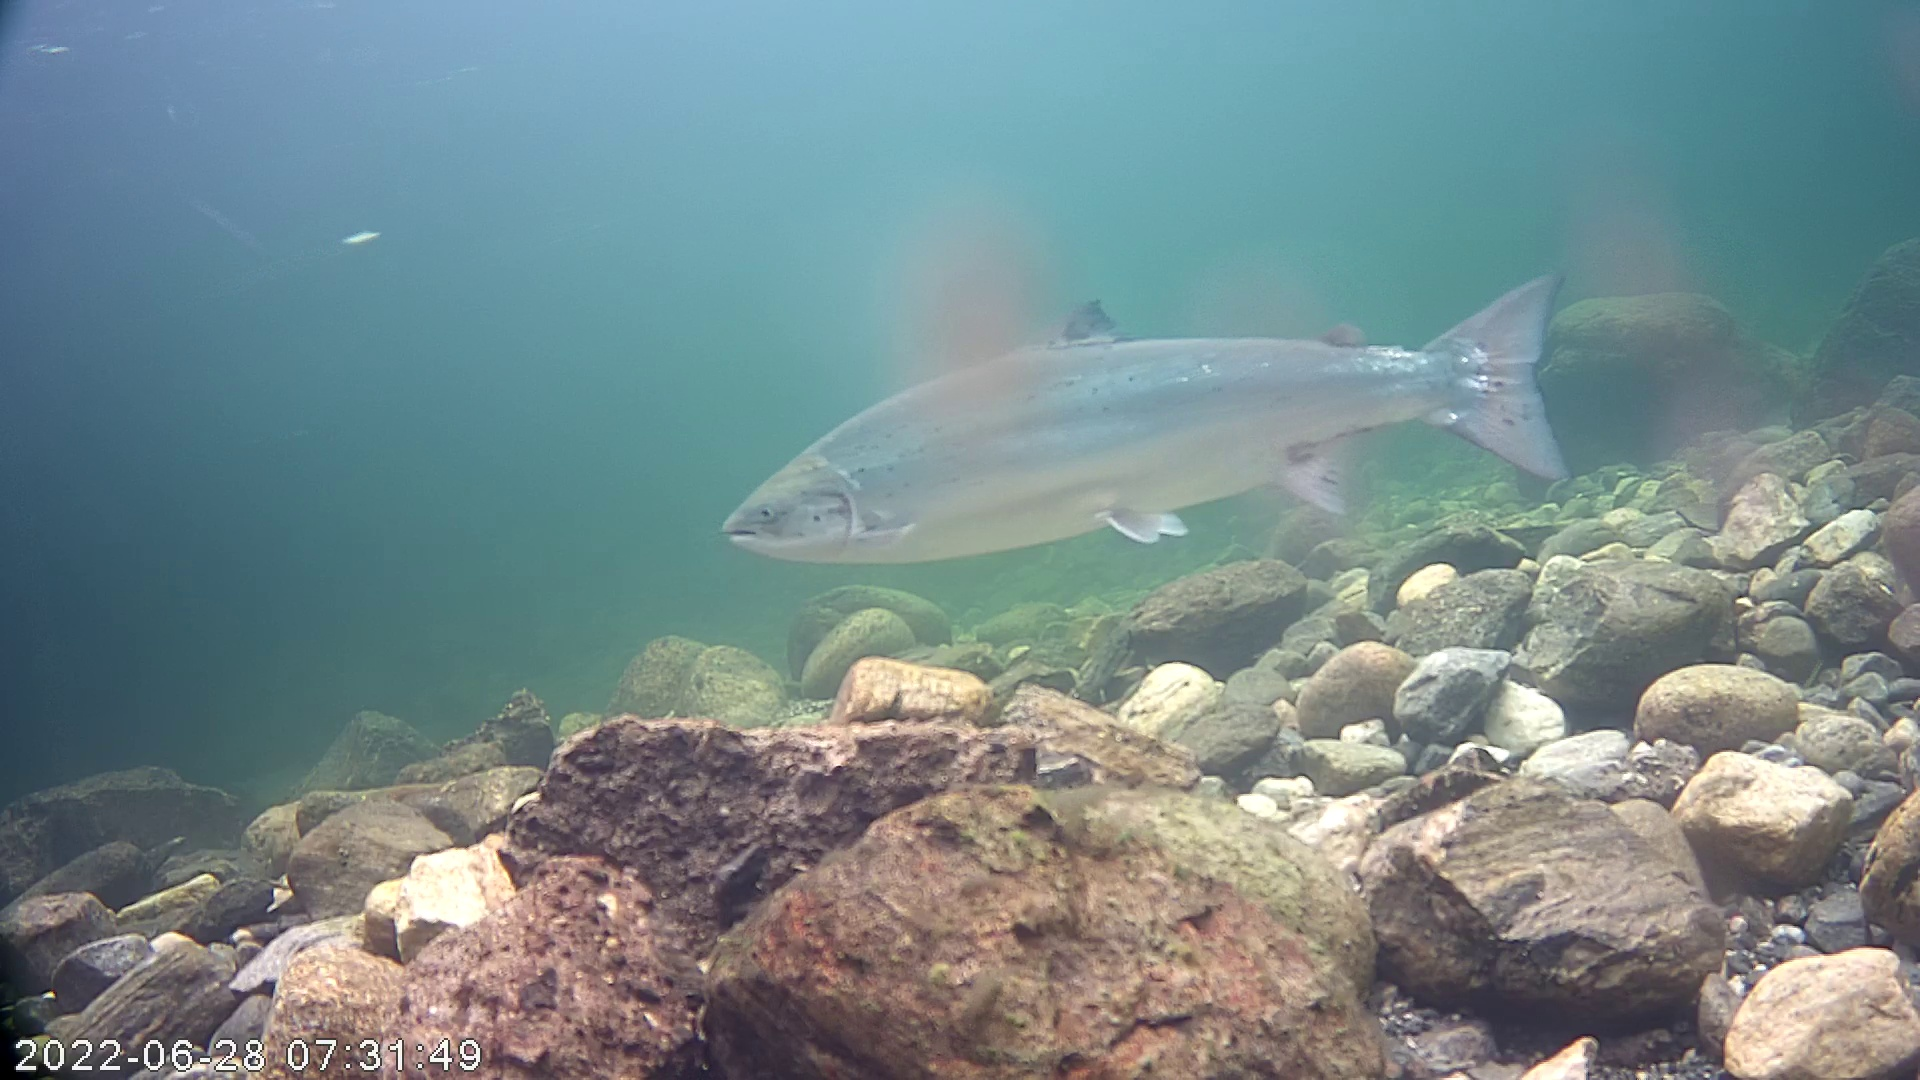salmon: (716, 199, 1588, 603)
